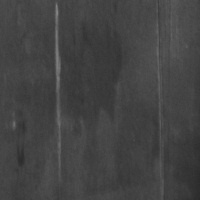scratches: (152, 22, 168, 199), (51, 3, 65, 171)
